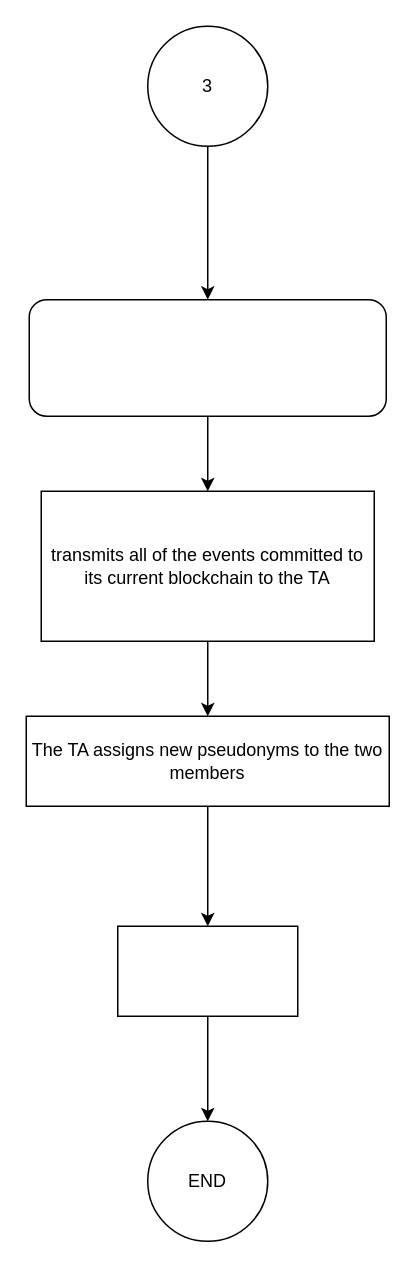
The diagram is 416 pixels wide and 1268 high, and some of its shapes have lost their labels. Each missing label, with the centre of its shape:
A and B approach a Trusted Authority endpoint (TA): (x=207, y=357)
trust ratings for all parties are adjusted accordingly: (x=207, y=970)
